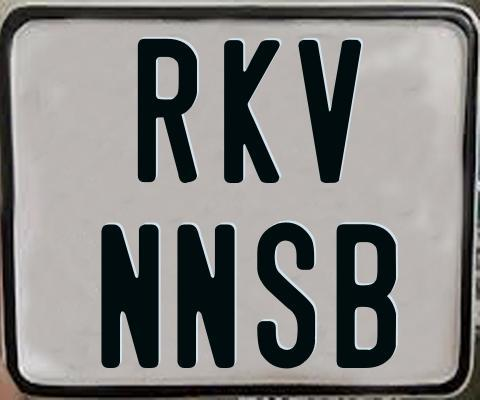B: (334, 223, 395, 369)
K: (223, 39, 281, 187)
N: (99, 222, 160, 371), (177, 222, 237, 371)
R: (137, 38, 197, 186)
S: (256, 220, 318, 367)
V: (295, 39, 364, 188)
